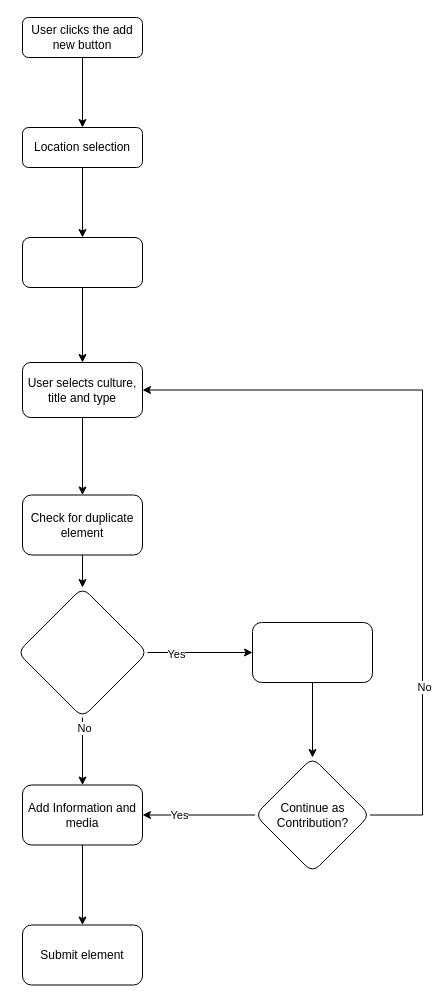
This 448x1003 diagram has some shape labels left out. The shapes that lost their labels are listed below. From the top down, each one's centre as x and y in pixels, then its label:
At [82,262]: "Look for nearest cultures".
At [82,652]: "Duplicate element found?".
At [312,652]: "Return Duplicate error".
